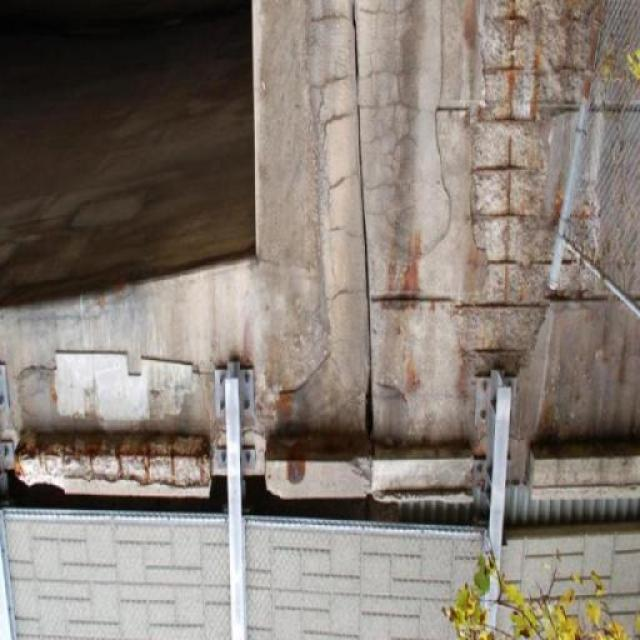D0w0: (12, 1, 610, 501)
